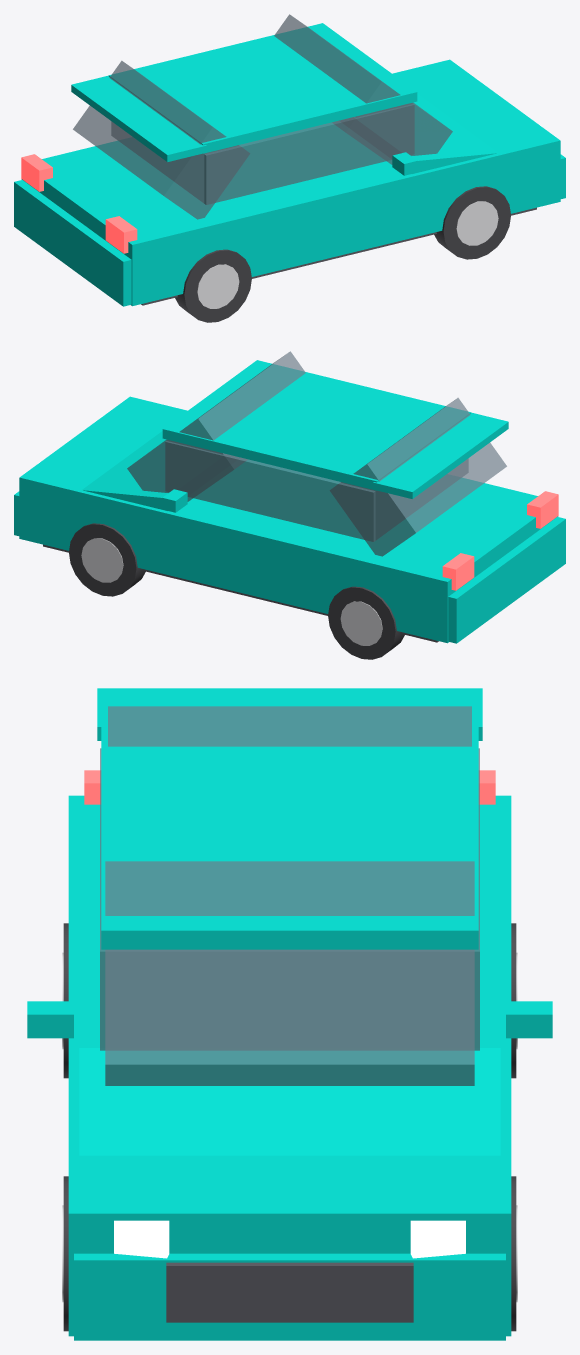
File: hatchback.glb
The picture shows the model from 3 angles, top to bottom: view 1: azimuth 30°, elevation 25°; view 2: azimuth 150°, elevation 25°; view 3: azimuth 270°, elevation 25°; orthographic projection. The views are drawn at different scales.
Parts seen in each view (by area): view 1: Body, Glass, Wheel_FL, Wheel_RL, Taillight, Rim_FL, Rim_RL, Trim; view 2: Body, Glass, Wheel_FR, Wheel_RR, Taillight, Rim_FR, Rim_RR, Trim; view 3: Body, Glass, Trim, Headlight, Taillight, Wheel_FL, Wheel_FR.
Boxes of the visible parts, x1,y1,x2,y2 form: Body: (14, 23, 565, 306); Glass: (73, 14, 452, 219); Wheel_FL: (434, 186, 510, 259); Wheel_RL: (175, 249, 251, 322); Taillight: (21, 154, 137, 253); Rim_FL: (456, 201, 498, 245); Rim_RL: (197, 264, 239, 308); Trim: (141, 207, 536, 305); Body: (14, 360, 565, 643); Glass: (127, 351, 506, 556); Wheel_FR: (69, 523, 145, 596); Wheel_RR: (328, 586, 404, 659); Taillight: (442, 491, 558, 590); Rim_FR: (81, 538, 123, 582); Rim_RR: (340, 601, 382, 645); Trim: (43, 544, 438, 642); Body: (27, 688, 552, 1340); Glass: (100, 706, 479, 1085); Trim: (166, 1262, 413, 1322); Headlight: (114, 1220, 465, 1258); Taillight: (84, 770, 495, 804); Wheel_FL: (63, 1176, 68, 1331); Wheel_FR: (511, 1176, 516, 1331).
Size of the model in its own units: 3.97 by 1.61 by 2.02.
